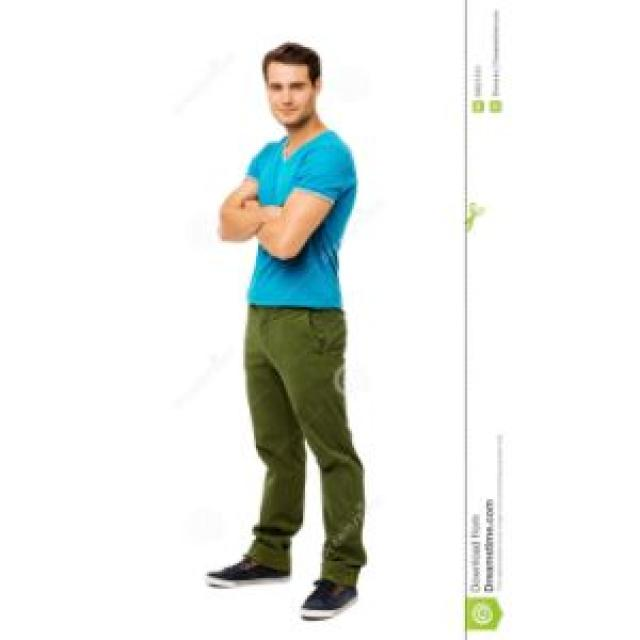adult: (212, 30, 374, 625)
